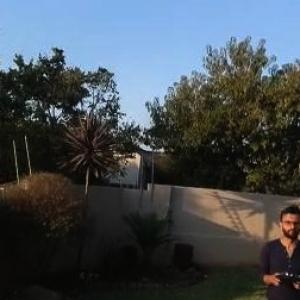follow: (254, 198, 298, 298)
